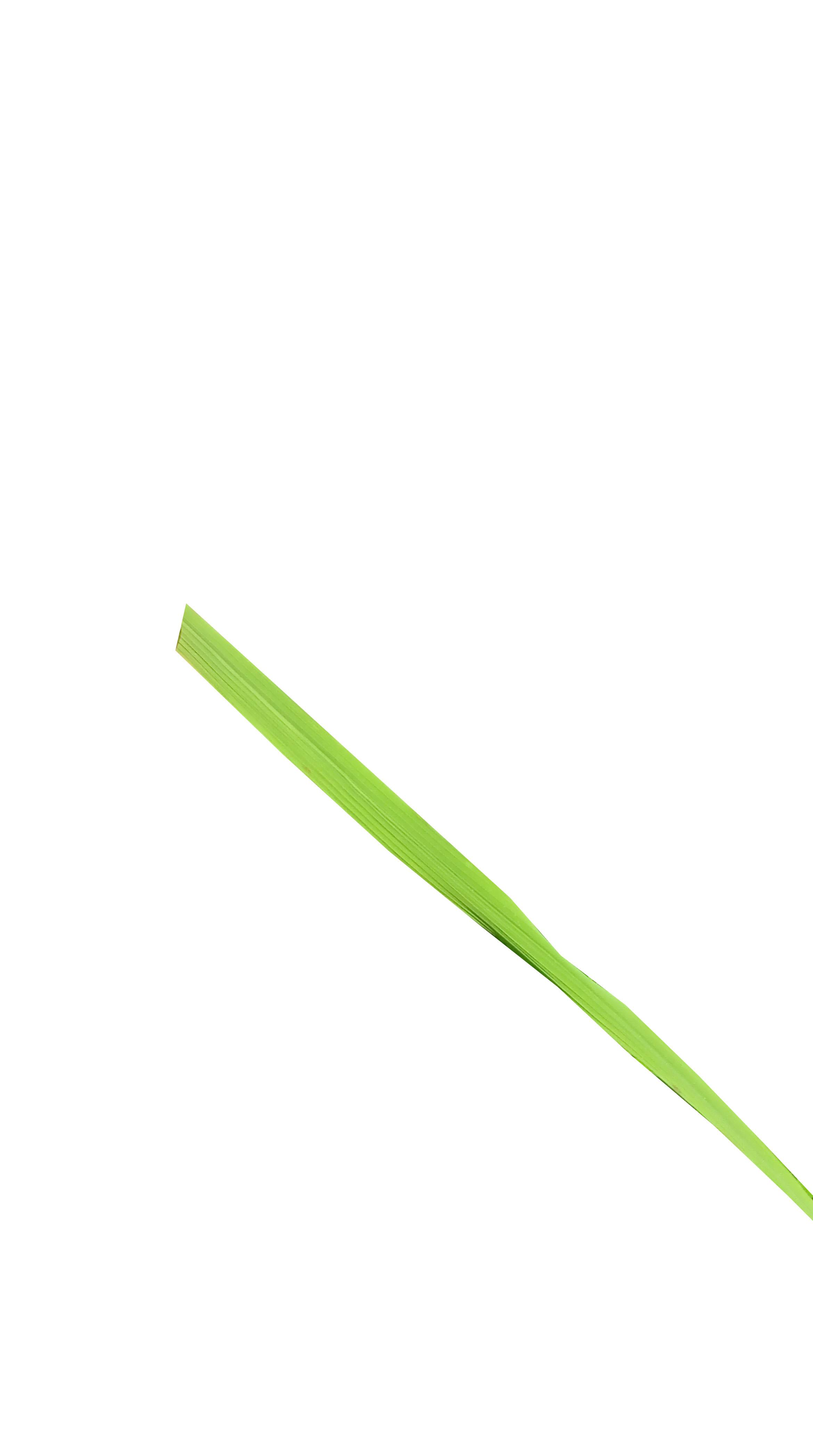Tungro: (173, 607, 813, 1232)
